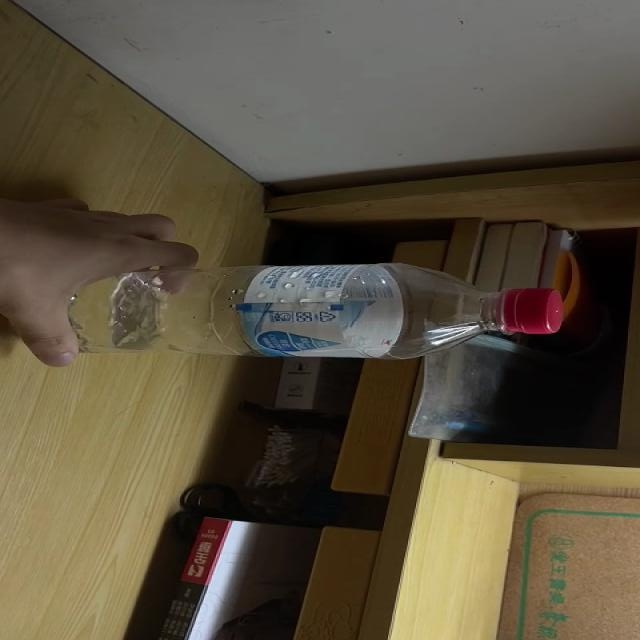Water: (17, 262, 563, 359)
